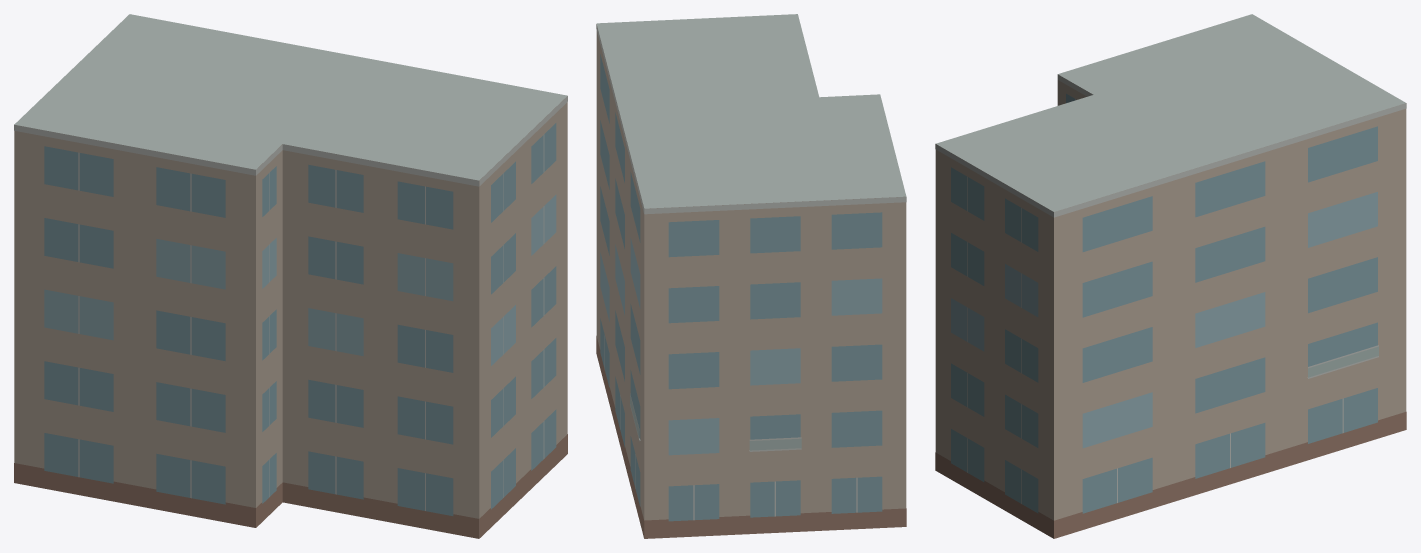
File: residential-84635668-1336-4626-b070-d6bc9894074c.glb
3 renders of one model, left to right at view 1: azimuth 30°, elevation 25°; view 2: azimuth 150°, elevation 25°; view 3: azimuth 270°, elevation 25°, orthographic. The views are drawn at different scales.
Parts seen in each view (by area): view 1: residential-84635668-1336-4626-b070-d6bc9894074c.tmp; view 2: residential-84635668-1336-4626-b070-d6bc9894074c.tmp; view 3: residential-84635668-1336-4626-b070-d6bc9894074c.tmp.
Boxes of the visible parts, x1,y1,x2,y2 form: residential-84635668-1336-4626-b070-d6bc9894074c.tmp: [14, 14, 567, 538]; residential-84635668-1336-4626-b070-d6bc9894074c.tmp: [596, 14, 906, 538]; residential-84635668-1336-4626-b070-d6bc9894074c.tmp: [935, 14, 1406, 538].
Bounding box in the file's own units: 18.73 × 14.4 × 18.81.
